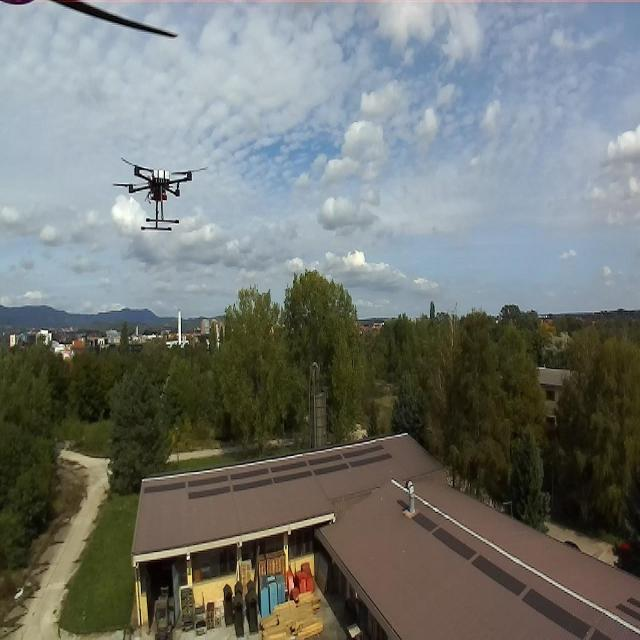drone: (108, 112, 212, 265)
